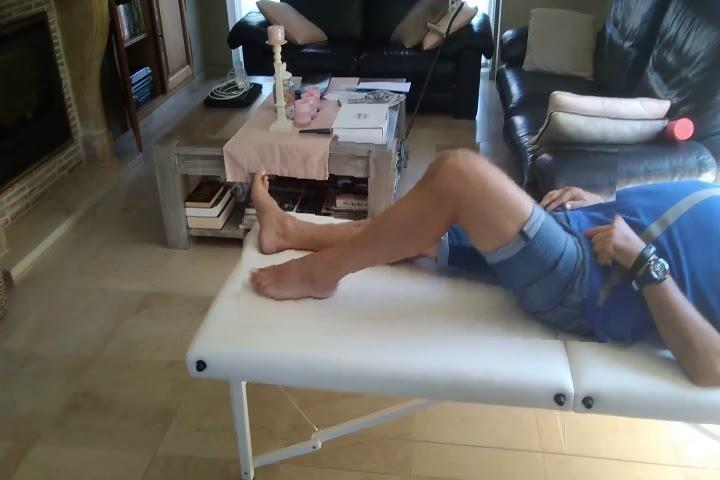lower_body: (242, 136, 617, 340)
